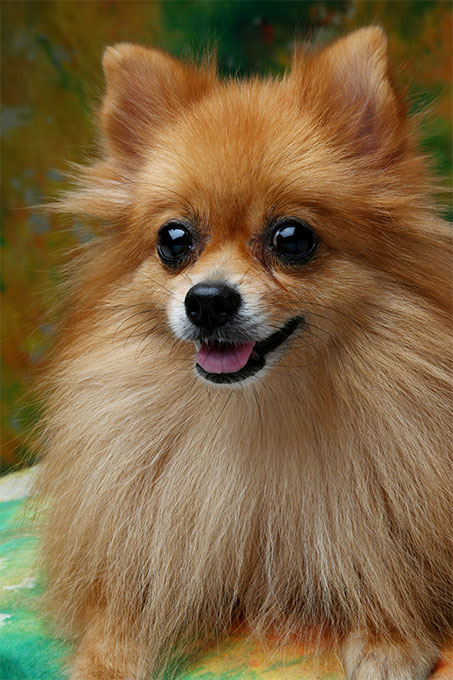pomeranian: (52, 25, 453, 624)
